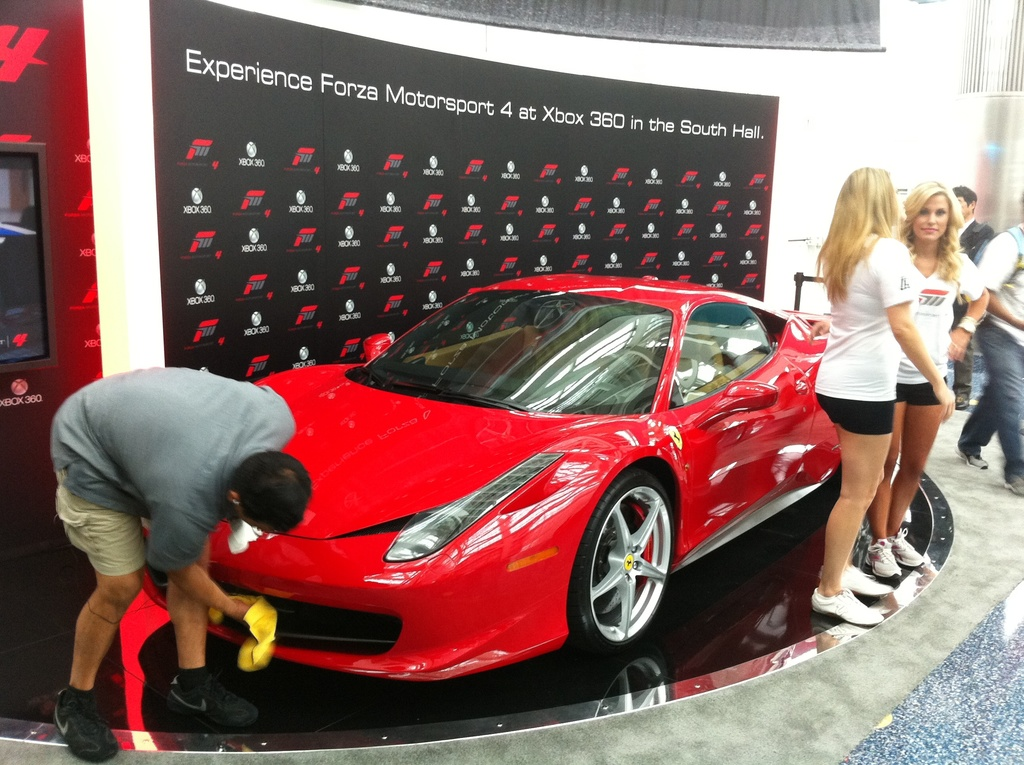Person: (815, 166, 1024, 625)
